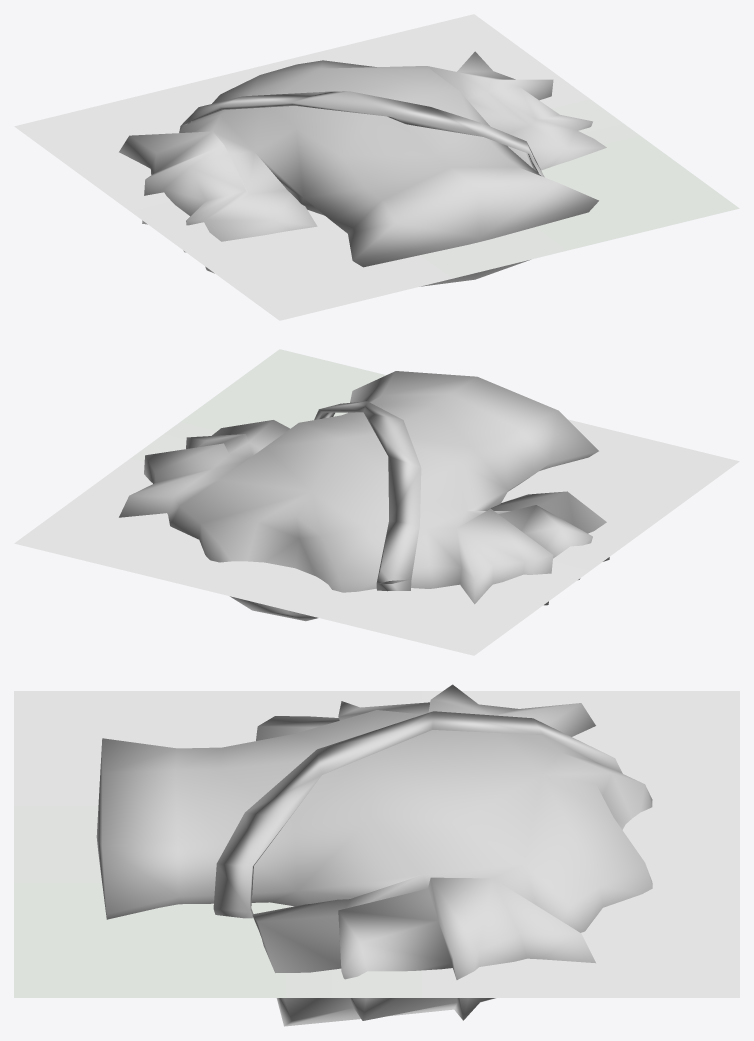
File: ITAR_NORDMAR.glb
The picture shows the model from 3 angles, top to bottom: view 1: azimuth 30°, elevation 25°; view 2: azimuth 150°, elevation 25°; view 3: azimuth 270°, elevation 25°; orthographic projection. The views are drawn at different scales.
Parts seen in each view (by area): view 1: Mesh; view 2: Mesh; view 3: Mesh.
Boxes of the visible parts, <box> form: Mesh: <box>14,14,739,320</box>; Mesh: <box>14,349,739,655</box>; Mesh: <box>14,684,739,1026</box>.
Bounding box in the file's own units: 0.8191 × 0.2242 × 0.8191.
Materials: 2 (1 with a texture image).
